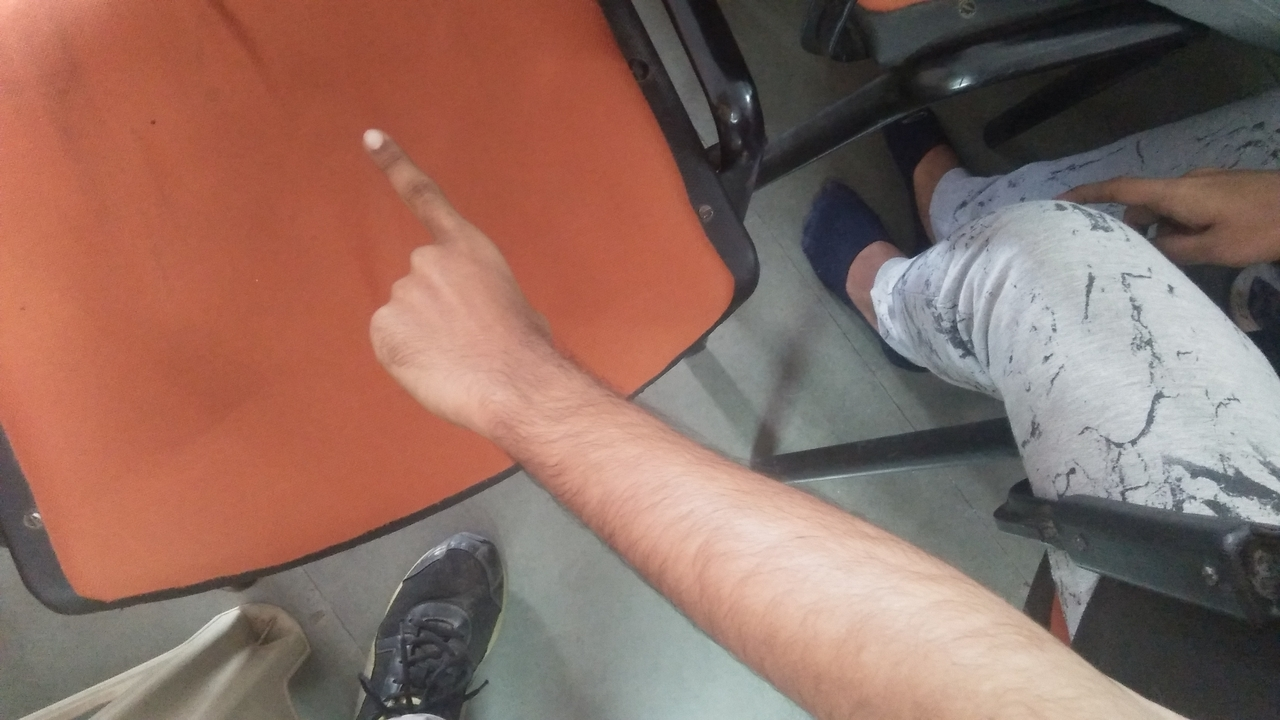fingertip: (342, 118, 416, 166)
